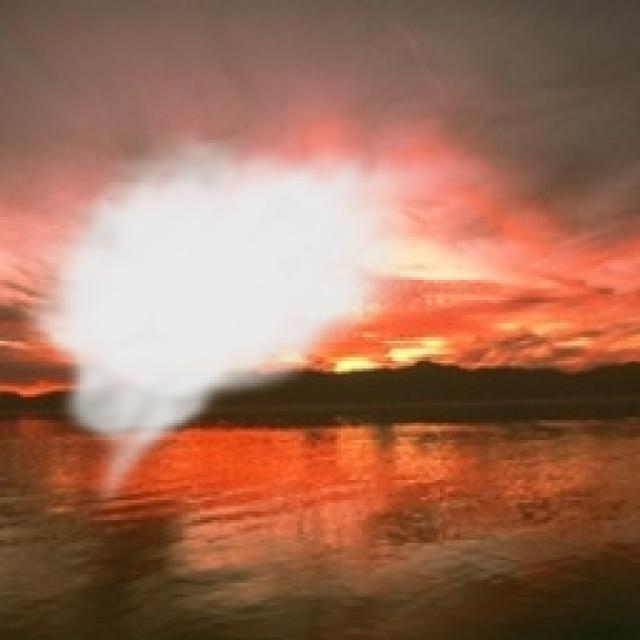Smoke: (12, 128, 434, 514)
